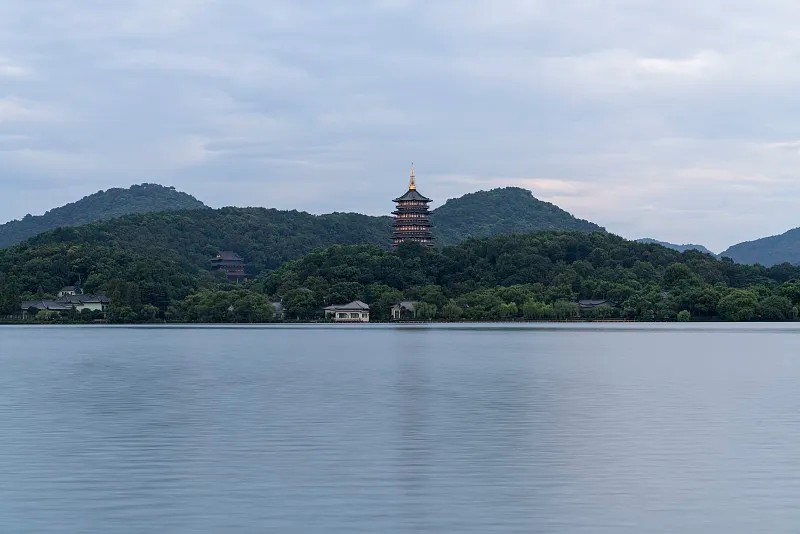Leifeng: (392, 160, 434, 246)
